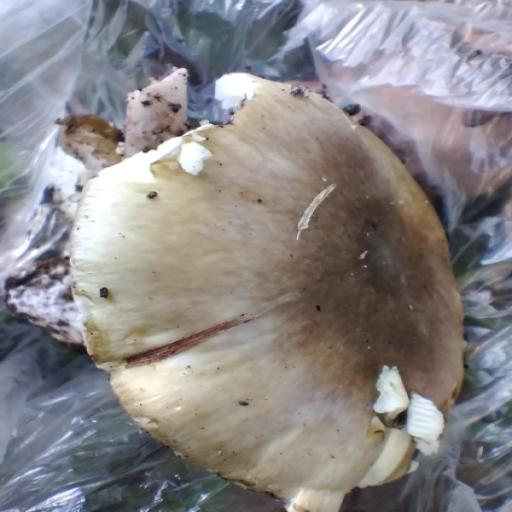Death Cap: (38, 43, 512, 512)
